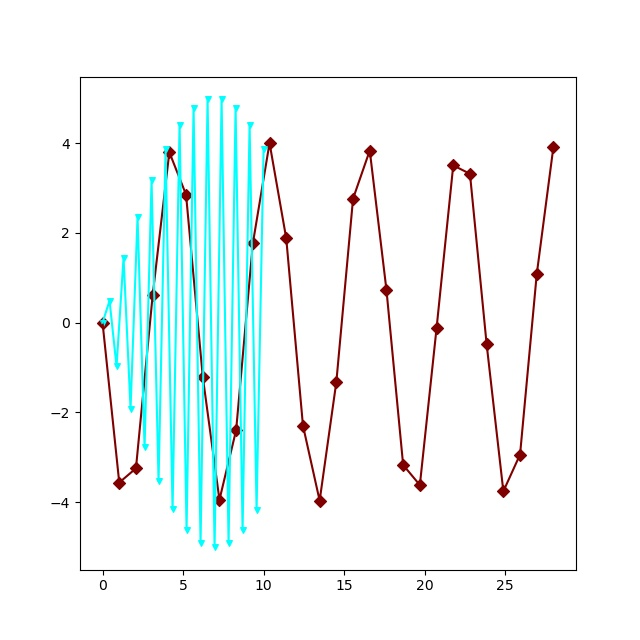diamond: (98, 318, 109, 329), (114, 478, 125, 489), (131, 463, 142, 474), (148, 290, 159, 301), (164, 147, 175, 158), (181, 190, 192, 201), (198, 372, 209, 383), (214, 495, 225, 506), (231, 425, 242, 436), (248, 238, 259, 249), (265, 138, 276, 149), (281, 233, 292, 244), (298, 421, 309, 432), (315, 496, 326, 507), (331, 377, 342, 388), (348, 194, 359, 205), (365, 146, 376, 157), (381, 285, 392, 296), (398, 460, 409, 471), (415, 480, 426, 491), (432, 323, 443, 334), (448, 160, 459, 171), (465, 169, 476, 180), (482, 339, 493, 350), (498, 486, 509, 497), (515, 450, 526, 461), (532, 269, 543, 280), (548, 142, 559, 153)
triangle_down: (99, 319, 108, 328), (106, 297, 115, 306), (113, 362, 122, 371), (120, 254, 129, 263), (127, 405, 136, 414), (134, 213, 143, 222), (141, 443, 150, 452), (148, 176, 157, 185), (155, 477, 164, 486), (162, 145, 171, 154), (169, 505, 178, 514), (176, 121, 185, 130), (183, 526, 192, 535), (190, 104, 199, 113), (197, 539, 206, 548), (204, 95, 213, 104), (211, 543, 220, 552), (218, 95, 227, 104), (225, 539, 234, 548), (232, 104, 241, 113), (239, 526, 248, 535), (246, 121, 255, 130), (253, 506, 262, 515), (260, 145, 269, 154)
